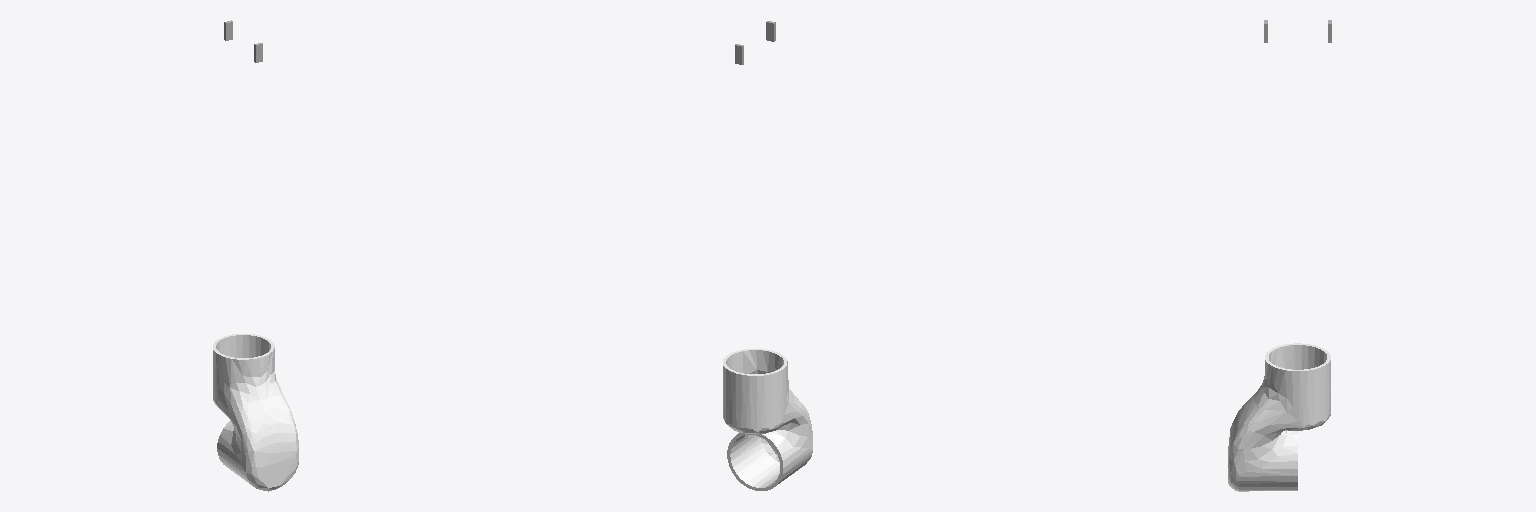
The robot description file, URDF, robot "mantra_with_gripper_description":
<?xml version="1.0" encoding="utf-8"?>
<!-- This URDF was automatically created by SolidWorks to URDF Exporter! Originally created by [author] ([email redacted])
     Commit Version: 1.5.0-0-g9aa0fdb  Build Version: 1.5.7004.21443
     For more information, please see http://wiki.ros.org/sw_urdf_exporter -->
<robot
  name="mantra_with_gripper_description">
  <link
    name="base_link">
    <!-- <inertial>
      <origin
        xyz="5.69641035035705E-08 -7.52429850161379E-09 0.0534781808387783"
        rpy="0 0 0" />
      <mass
        value="2.12515524577406" />
      <inertia
        ixx="0.00919560446596015"
        ixy="2.13793974775614E-09"
        ixz="-1.7577731702399E-09"
        iyy="0.00919559841583678"
        iyz="3.46157313086279E-10"
        izz="0.011098052703463" />
    </inertial> -->
    <visual>
      <origin
        xyz="0 0 0"
        rpy="0 0 0" />
      <geometry>
        <mesh
          filename="package://mantra_with_gripper_description/meshes/base_link.STL" />
      </geometry>
      <material
        name="">
        <color
          rgba="1 1 1 1" />
      </material>
    </visual>
    <collision>
      <origin
        xyz="0 0 0"
        rpy="0 0 0" />
      <geometry>
        <mesh
          filename="package://mantra_with_gripper_description/meshes/base_link.STL" />
      </geometry>
    </collision>
  </link>
  <link
    name="link1">
    <inertial>
      <origin
        xyz="3.33697354947913E-06 0.0376725326992402 0.113954575937932"
        rpy="0 0 0" />
      <mass
        value="0.449846417611502" />
      <inertia
        ixx="0.00281542194513947"
        ixy="-2.97928363529203E-08"
        ixz="2.31552459198658E-09"
        iyy="0.00237879024815951"
        iyz="-0.000689611051918419"
        izz="0.00161666621542504" />
    </inertial>
    <visual>
      <origin
        xyz="0 0 0"
        rpy="0 0 0" />
      <geometry>
        <mesh
          filename="package://mantra_with_gripper_description/meshes/link1.STL" />
      </geometry>
      <material
        name="">
        <color
          rgba="1 1 1 1" />
      </material>
    </visual>
    <collision>
      <origin
        xyz="0 0 0"
        rpy="0 0 0" />
      <geometry>
        <mesh
          filename="package://mantra_with_gripper_description/meshes/link1.STL" />
      </geometry>
    </collision>
  </link>
  <joint
    name="joint1"
    type="revolute">
    <origin
      xyz="0 0 0.2005"
      rpy="0 0 0" />
    <parent
      link="base_link" />
    <child
      link="link1" />
    <axis
      xyz="0 0 -1" />
    <limit
      lower="-1.5708"
      upper="1.5708"
      effort="100"
      velocity="1" />
  </joint>
  <link
    name="link2">
    <inertial>
      <origin
        xyz="3.33697354947008E-06 0.0560454240620685 0.0376725326992408"
        rpy="0 0 0" />
      <mass
        value="0.449846417611509" />
      <inertia
        ixx="0.00281542194513949"
        ixy="-2.3155245922964E-09"
        ixz="-2.97928363554505E-08"
        iyy="0.00161666621542506"
        iyz="0.000689611051918419"
        izz="0.00237879024815952" />
    </inertial>
    <visual>
      <origin
        xyz="0 0 0"
        rpy="0 0 0" />
      <geometry>
        <mesh
          filename="package://mantra_with_gripper_description/meshes/link2.STL" />
      </geometry>
      <material
        name="">
        <color
          rgba="1 1 1 1" />
      </material>
    </visual>
    <collision>
      <origin
        xyz="0 0 0"
        rpy="0 0 0" />
      <geometry>
        <mesh
          filename="package://mantra_with_gripper_description/meshes/link2.STL" />
      </geometry>
    </collision>
  </link>
  <joint
    name="joint2"
    type="revolute">
    <origin
      xyz="0 0 0.17"
      rpy="1.5708 0 0" />
    <parent
      link="link1" />
    <child
      link="link2" />
    <axis
      xyz="0 0 -1" />
    <limit
      lower="-1.85"
      upper="1.85"
      effort="100"
      velocity="1" />
  </joint>
  <link
    name="link3">
    <inertial>
      <origin
        xyz="-7.12565212158442E-06 0.0300289146661516 0.103545651609834"
        rpy="0 0 0" />
      <mass
        value="0.392582340089193" />
      <inertia
        ixx="0.0020755242879527"
        ixy="1.39339603463947E-08"
        ixz="-2.854811113402E-08"
        iyy="0.00178702026485436"
        iyz="-0.000503155834932376"
        izz="0.00121405044233485" />
    </inertial>
    <visual>
      <origin
        xyz="0 0 0"
        rpy="0 0 0" />
      <geometry>
        <mesh
          filename="package://mantra_with_gripper_description/meshes/link3.STL" />
      </geometry>
      <material
        name="">
        <color
          rgba="1 1 1 1" />
      </material>
    </visual>
    <collision>
      <origin
        xyz="0 0 0"
        rpy="0 0 0" />
      <geometry>
        <mesh
          filename="package://mantra_with_gripper_description/meshes/link3.STL" />
      </geometry>
    </collision>
  </link>
  <joint
    name="joint3"
    type="revolute">
    <origin
      xyz="0 0.17 0"
      rpy="-1.5708 0 0" />
    <parent
      link="link2" />
    <child
      link="link3" />
    <axis
      xyz="0 0 -1" />
    <limit
      lower="-1.5708"
      upper="1.5708"
      effort="100"
      velocity="1" />
  </joint>
  <link
    name="link4">
    <inertial>
      <origin
        xyz="9.5043585751514E-07 0.0539665921441029 0.0317108566437211"
        rpy="0 0 0" />
      <mass
        value="0.367226253241491" />
      <inertia
        ixx="0.00189945127986856"
        ixy="1.10761786473211E-08"
        ixz="-3.7570793904099E-09"
        iyy="0.00102605162314097"
        iyz="0.000467411288512599"
        izz="0.00163165412446067" />
    </inertial>
    <visual>
      <origin
        xyz="0 0 0"
        rpy="0 0 0" />
      <geometry>
        <mesh
          filename="package://mantra_with_gripper_description/meshes/link4.STL" />
      </geometry>
      <material
        name="">
        <color
          rgba="1 1 1 1" />
      </material>
    </visual>
    <collision>
      <origin
        xyz="0 0 0"
        rpy="0 0 0" />
      <geometry>
        <mesh
          filename="package://mantra_with_gripper_description/meshes/link4.STL" />
      </geometry>
    </collision>
  </link>
  <joint
    name="joint4"
    type="revolute">
    <origin
      xyz="0 0 0.16"
      rpy="1.5708 0 0" />
    <parent
      link="link3" />
    <child
      link="link4" />
    <axis
      xyz="0 0 -1" />
    <limit
      lower="-1.85"
      upper="1.85"
      effort="100"
      velocity="1" />
  </joint>
  <link
    name="link5">
    <inertial>
      <origin
        xyz="9.51012096351934E-07 0.0317108567627314 0.106033406535695"
        rpy="0 0 0" />
      <mass
        value="0.367226254016741" />
      <inertia
        ixx="0.00189945125870264"
        ixy="-3.75974500932253E-09"
        ixz="-1.10613008672603E-08"
        iyy="0.00163165410820963"
        iyz="-0.000467411240126133"
        izz="0.00102605163568241" />
    </inertial>
    <visual>
      <origin
        xyz="0 0 0"
        rpy="0 0 0" />
      <geometry>
        <mesh
          filename="package://mantra_with_gripper_description/meshes/link5.STL" />
      </geometry>
      <material
        name="">
        <color
          rgba="1 1 1 1" />
      </material>
    </visual>
    <collision>
      <origin
        xyz="0 0 0"
        rpy="0 0 0" />
      <geometry>
        <mesh
          filename="package://mantra_with_gripper_description/meshes/link5.STL" />
      </geometry>
    </collision>
  </link>
  <joint
    name="joint5"
    type="revolute">
    <origin
      xyz="0 0.16 0"
      rpy="-1.5708 0 0" />
    <parent
      link="link4" />
    <child
      link="link5" />
    <axis
      xyz="0 0 -1" />
    <limit
      lower="-1.5708"
      upper="1.5708"
      effort="100"
      velocity="1" />
  </joint>
  <link
    name="link6">
    <inertial>
      <origin
        xyz="9.50435834835184E-07 0.0539665921440784 0.0317108566434664"
        rpy="0 0 0" />
      <mass
        value="0.367226253239117" />
      <inertia
        ixx="0.00189945137374859"
        ixy="1.10879827352058E-08"
        ixz="-3.81500844090566E-09"
        iyy="0.00102605167941246"
        iyz="0.000467411315869438"
        izz="0.00163165420801843" />
    </inertial>
    <visual>
      <origin
        xyz="0 0 0"
        rpy="0 0 0" />
      <geometry>
        <mesh
          filename="package://mantra_with_gripper_description/meshes/link6.STL" />
      </geometry>
      <material
        name="">
        <color
          rgba="1 1 1 1" />
      </material>
    </visual>
    <collision>
      <origin
        xyz="0 0 0"
        rpy="0 0 0" />
      <geometry>
        <mesh
          filename="package://mantra_with_gripper_description/meshes/link6.STL" />
      </geometry>
    </collision>
  </link>
  <joint
    name="joint6"
    type="revolute">
    <origin
      xyz="0 0 0.16"
      rpy="1.5708 0 0" />
    <parent
      link="link5" />
    <child
      link="link6" />
    <axis
      xyz="0 0 -1" />
    <limit
      lower="-1.85"
      upper="1.85"
      effort="100"
      velocity="1" />
  </joint>
  <link
    name="link7">
    <inertial>
      <origin
        xyz="7.46099887346881E-17 -1.10416395174554E-05 -0.0250031652588534"
        rpy="0 0 0" />
      <mass
        value="0.14043817532843" />
      <inertia
        ixx="0.000166560052257127"
        ixy="2.71160607993557E-20"
        ixz="-8.59213210250315E-20"
        iyy="0.000166602712740968"
        iyz="2.78725555163462E-08"
        izz="0.000232492320290339" />
    </inertial>
    <visual>
      <origin
        xyz="0 0 0"
        rpy="0 0 0" />
      <geometry>
        <mesh
          filename="package://mantra_with_gripper_description/meshes/link7.STL" />
      </geometry>
      <material
        name="">
        <color
          rgba="1 1 1 1" />
      </material>
    </visual>
    <collision>
      <origin
        xyz="0 0 0"
        rpy="0 0 0" />
      <geometry>
        <mesh
          filename="package://mantra_with_gripper_description/meshes/link7.STL" />
      </geometry>
    </collision>
  </link>
  <joint
    name="joint7"
    type="revolute">
    <origin
      xyz="0 0.2255 0"
      rpy="-1.5708 0 0" />
    <parent
      link="link6" />
    <child
      link="link7" />
    <axis
      xyz="0 0 -1" />
    <limit
      lower="-1.5708"
      upper="1.5708"
      effort="100"
      velocity="1" />
  </joint>
  <link
    name="ee_link1">
    <inertial>
      <origin
        xyz="2.85464193978627E-17 0.046 0.002"
        rpy="0 0 0" />
      <mass
        value="0.00194999999999999" />
      <inertia
        ixx="1.50312499999997E-07"
        ixy="6.61485086202342E-25"
        ixz="1.48998375260736E-23"
        iyy="1.73712499999997E-07"
        iyz="-4.21006794862361E-25"
        izz="3.15249999999998E-08" />
    </inertial>
    <visual>
      <origin
        xyz="0 0 0"
        rpy="0 0 0" />
      <geometry>
        <mesh
          filename="package://mantra_with_gripper_description/meshes/ee_link1.STL" />
      </geometry>
      <material
        name="">
        <color
          rgba="0.752941176470588 0.752941176470588 0.752941176470588 1" />
      </material>
    </visual>
    <collision>
      <origin
        xyz="0 0 0"
        rpy="0 0 0" />
      <geometry>
        <mesh
          filename="package://mantra_with_gripper_description/meshes/ee_link1.STL" />
      </geometry>
    </collision>
  </link>
  <joint
    name="ee_joint1"
    type="prismatic">
    <origin
      xyz="0 0 0.126"
      rpy="0 0 0" />
    <parent
      link="link7" />
    <child
      link="ee_link1" />
    <axis
      xyz="0 -1 0" />
    <limit
      lower="0"
      upper="0.04"
      effort="0"
      velocity="0" />
  </joint>
  <link
    name="ee_link2">
    <inertial>
      <origin
        xyz="1.46922127701119E-17 -0.046 0.002"
        rpy="0 0 0" />
      <mass
        value="0.00194999999999999" />
      <inertia
        ixx="1.50312499999997E-07"
        ixy="6.61485086202342E-25"
        ixz="1.48998375260736E-23"
        iyy="1.73712499999997E-07"
        iyz="-4.21006794862361E-25"
        izz="3.15249999999998E-08" />
    </inertial>
    <visual>
      <origin
        xyz="0 0 0"
        rpy="0 0 0" />
      <geometry>
        <mesh
          filename="package://mantra_with_gripper_description/meshes/ee_link2.STL" />
      </geometry>
      <material
        name="">
        <color
          rgba="0.752941176470588 0.752941176470588 0.752941176470588 1" />
      </material>
    </visual>
    <collision>
      <origin
        xyz="0 0 0"
        rpy="0 0 0" />
      <geometry>
        <mesh
          filename="package://mantra_with_gripper_description/meshes/ee_link2.STL" />
      </geometry>
    </collision>
  </link>
  <joint
    name="ee_joint2"
    type="prismatic">
    <origin
      xyz="0 0 0.126"
      rpy="0 0 0" />
    <parent
      link="link7" />
    <child
      link="ee_link2" />
    <axis
      xyz="0 1 0" />
    <limit
      lower="-0.04"
      upper="0"
      effort="0"
      velocity="0" />
    <mimic
      joint="ee_joint1"
      multiplier="1"
      offset="0" />
  </joint>
</robot>

--- What the picture shows (computed from the rendered views, not written in the file) ---
3 views of the same robot in one strip: view 1: azimuth 30°, elevation 25°; view 2: azimuth 150°, elevation 25°; view 3: azimuth 270°, elevation 25° (orthographic).
Model mantra_with_gripper_description with 10 links and 9 joints (7 revolute, 2 prismatic), rooted at base_link, posed every joint at zero.
Visible links, largest first — view 1: link4; view 2: link4; view 3: link4.
Boxes of the visible links, x1,y1,x2,y2 form: link4: (213,334,298,491); link4: (723,349,812,490); link4: (1228,343,1330,491).
Bounding box of the posed robot: 0.095 × 0.1485 × 0.736 m (x, y, z).
3 mesh visuals loaded from 10 distinct referenced files (3 binary STL); not drawn: 7 (reference not matched to a file when rendering).